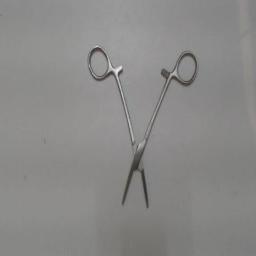Mayo Needle Holder: (84, 42, 200, 218)
